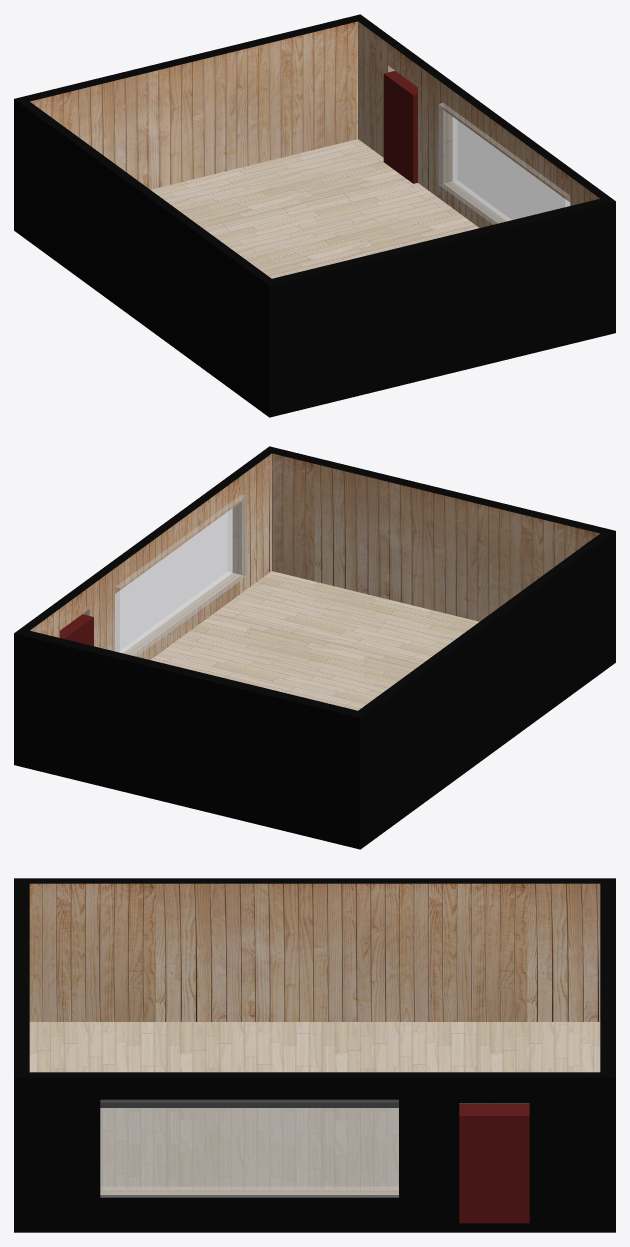
Rendered from Shop.glb.
3 views of the same model, one above another, from view 1: azimuth 30°, elevation 25°; view 2: azimuth 150°, elevation 25°; view 3: azimuth 270°, elevation 25° (orthographic). The views are drawn at different scales.
Visible parts, largest first — view 1: Cube, Cube.001, Cube.002; view 2: Cube, Cube.001, Cube.002; view 3: Cube, Cube.001, Cube.002.
Boxes of the visible parts, x1,y1,x2,y2 form: Cube: [14, 14, 615, 417]; Cube.001: [438, 103, 570, 224]; Cube.002: [383, 71, 417, 183]; Cube: [14, 446, 615, 849]; Cube.001: [115, 494, 246, 656]; Cube.002: [59, 614, 93, 646]; Cube: [14, 878, 615, 1232]; Cube.001: [100, 1100, 398, 1197]; Cube.002: [459, 1104, 529, 1223].
Bounding box in the file's own units: 10.04 × 3.57 × 12.56.
5 materials, 2 textured.
